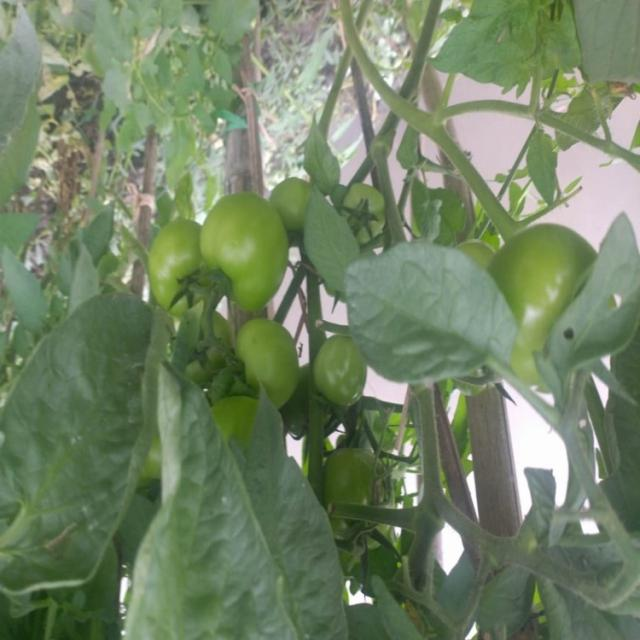tomato: (484, 210, 595, 388), (207, 179, 314, 314), (156, 215, 218, 319), (239, 316, 308, 408), (319, 439, 389, 510), (343, 179, 402, 244), (192, 381, 253, 441), (317, 329, 360, 399), (187, 326, 232, 379)
